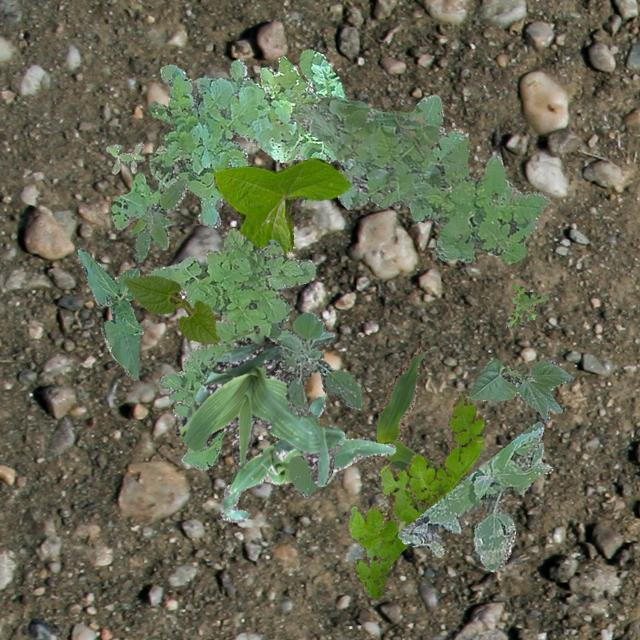crop: (174, 324, 343, 484), (220, 396, 394, 522), (212, 156, 350, 252), (368, 344, 459, 488), (76, 248, 142, 380), (468, 358, 572, 422), (122, 274, 218, 342), (280, 408, 318, 496)
weed: (292, 94, 548, 262), (110, 48, 344, 228), (144, 226, 314, 469), (348, 394, 482, 596), (396, 420, 550, 570), (278, 312, 362, 416), (128, 178, 186, 262), (504, 282, 548, 326), (105, 140, 144, 172)
